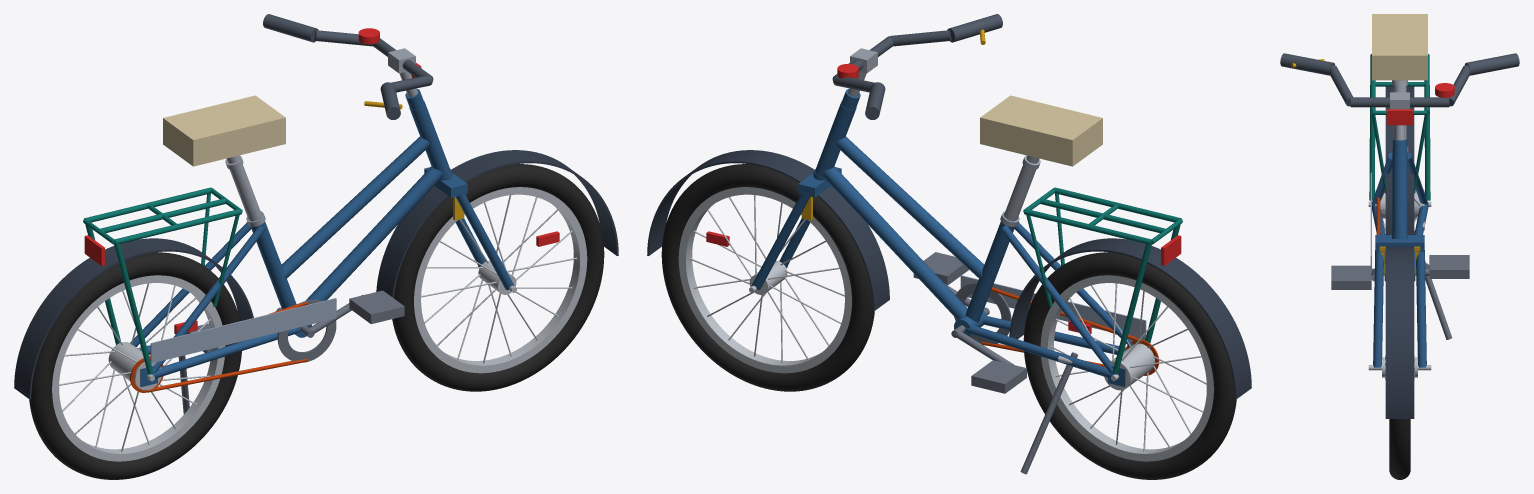
3 views of the same model, side by side, from view 1: azimuth 30°, elevation 25°; view 2: azimuth 150°, elevation 25°; view 3: azimuth 270°, elevation 25° (orthographic). The views are drawn at different scales.
Parts seen in each view (by area): view 1: Solid tires, 20 x 1.95 in (2), Step-through chromoly frame, Fenders, Front wheel, 20 in, alloy rim, Rear wheel, alloy rim, coaster hub, Saddle, Aluminium rear rack, 10 kg rated, Chainguard, Crankset, 32T, 140 mm, Handlebar and grips, Fork, 1 in steerer, Reflectors and bell (+2 smaller); view 2: Solid tires, 20 x 1.95 in (2), Step-through chromoly frame, Fenders, Rear wheel, alloy rim, coaster hub, Front wheel, 20 in, alloy rim, Saddle, Aluminium rear rack, 10 kg rated, Crankset, 32T, 140 mm, Handlebar and grips, Fork, 1 in steerer, Chainguard, Telescoping seat post (sleeve and post) (+3 smaller); view 3: Fenders, Saddle, Fork, 1 in steerer, Handlebar and grips, Step-through chromoly frame, Aluminium rear rack, 10 kg rated, Crankset, 32T, 140 mm, Solid tires, 20 x 1.95 in (2), Reflectors and bell, Telescoping quill stem, Kickstand, Rear wheel, alloy rim, coaster hub (+2 smaller).
Boxes of the visible parts, bbox=[...] form: Solid tires, 20 x 1.95 in (2): bbox=[29, 164, 604, 479]; Step-through chromoly frame: bbox=[130, 101, 450, 386]; Fenders: bbox=[14, 150, 618, 399]; Front wheel, 20 in, alloy rim: bbox=[414, 187, 587, 373]; Rear wheel, alloy rim, coaster hub: bbox=[52, 275, 225, 461]; Saddle: bbox=[163, 95, 285, 166]; Aluminium rear rack, 10 kg rated: bbox=[83, 187, 242, 374]; Chainguard: bbox=[150, 298, 336, 363]; Crankset, 32T, 140 mm: bbox=[185, 290, 404, 362]; Handlebar and grips: bbox=[263, 14, 433, 119]; Fork, 1 in steerer: bbox=[405, 89, 513, 289]; Reflectors and bell: bbox=[84, 28, 559, 334]; Solid tires, 20 x 1.95 in (2): bbox=[661, 164, 1236, 479]; Step-through chromoly frame: bbox=[815, 101, 1132, 386]; Fenders: bbox=[647, 150, 1251, 399]; Rear wheel, alloy rim, coaster hub: bbox=[1040, 275, 1213, 461]; Front wheel, 20 in, alloy rim: bbox=[678, 187, 851, 373]; Saddle: bbox=[980, 95, 1102, 166]; Aluminium rear rack, 10 kg rated: bbox=[1023, 187, 1182, 374]; Crankset, 32T, 140 mm: bbox=[913, 252, 1026, 393]; Handlebar and grips: bbox=[832, 14, 1002, 119]; Fork, 1 in steerer: bbox=[752, 89, 860, 289]; Chainguard: bbox=[960, 275, 1146, 340]; Telescoping seat post (sleeve and post): bbox=[1000, 155, 1040, 226]; Fenders: bbox=[1385, 86, 1414, 418]; Saddle: bbox=[1372, 14, 1427, 80]; Fork, 1 in steerer: bbox=[1373, 139, 1426, 367]; Handlebar and grips: bbox=[1280, 53, 1519, 107]; Step-through chromoly frame: bbox=[1372, 152, 1428, 281]; Aluminium rear rack, 10 kg rated: bbox=[1369, 54, 1430, 200]; Crankset, 32T, 140 mm: bbox=[1331, 255, 1469, 289]; Solid tires, 20 x 1.95 in (2): bbox=[1389, 419, 1410, 479]; Reflectors and bell: bbox=[1386, 83, 1454, 125]; Telescoping quill stem: bbox=[1390, 92, 1409, 140]; Kickstand: bbox=[1414, 230, 1452, 339]; Rear wheel, alloy rim, coaster hub: bbox=[1368, 190, 1431, 231].
Bounding box in the file's own units: 1.4 × 0.8356 × 0.5324.
